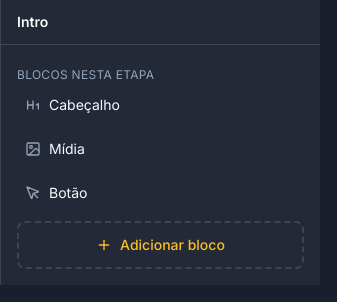
ConnectedPropertiesPanel › Step settings view › clicking a block in list selects it
# Click on the header block in the list
Click the button "Cabeçalho". click: [144, 105]
box: [25,95,264,115]
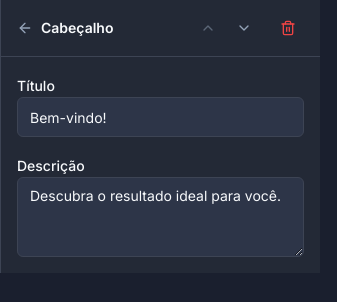
Now the button named "voltar" is shown, box [13,16,37,40]
